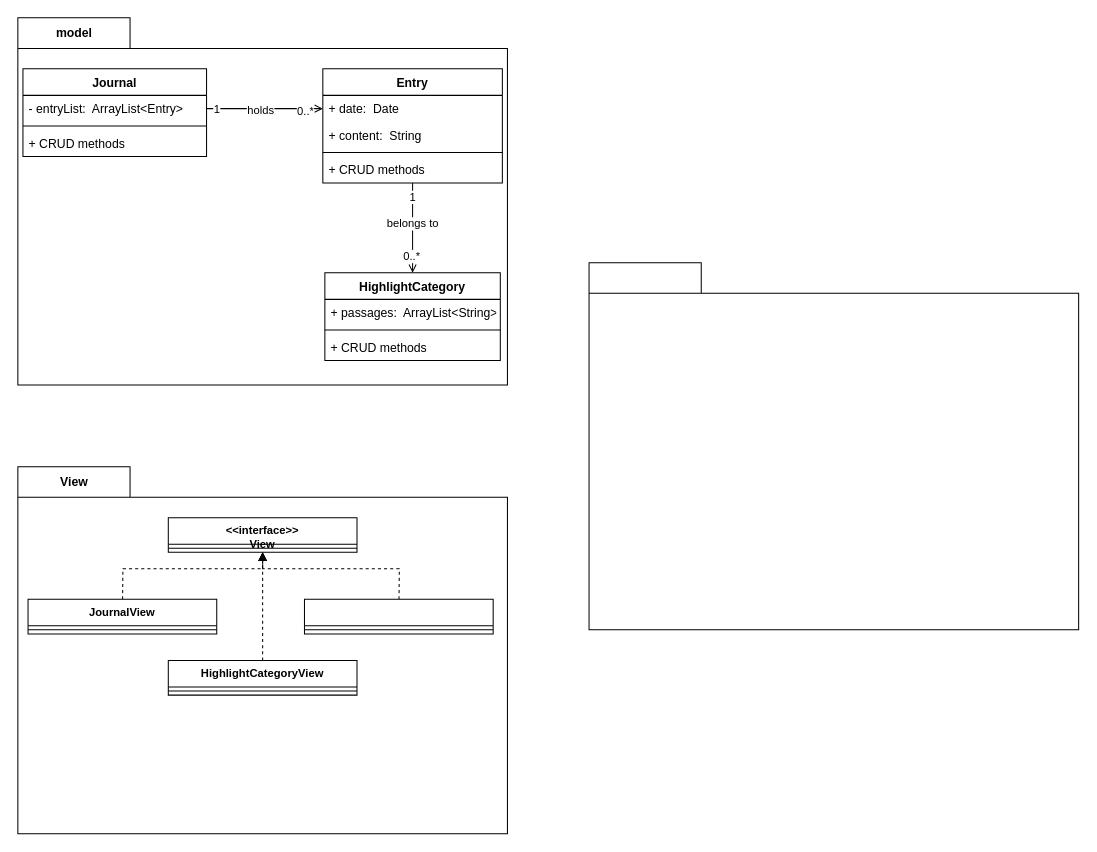
Some shapes in this 1097 by 852 pixel diagram are drawn without their labels. Here are the shapes that lost their labels. From the top down, the centre of each, then its label:
(x=833, y=446): Controller
(x=398, y=616): EntryView
